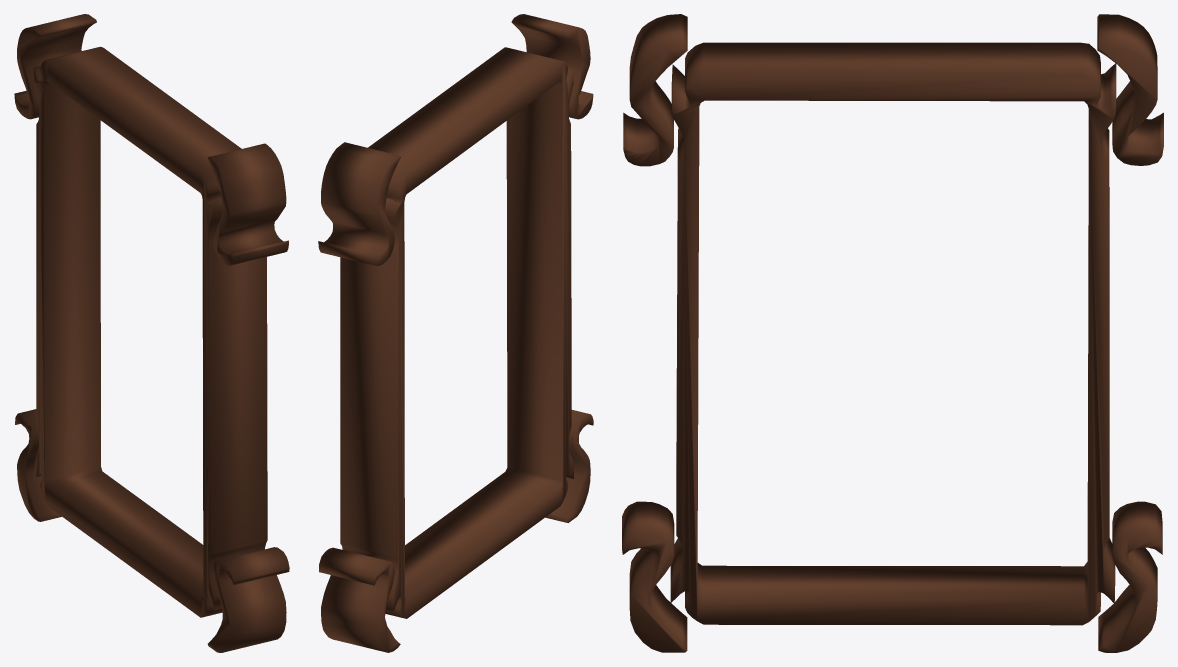
Rendered from 3rdPodium.fbx.
3 views of the same model, side by side, from view 1: azimuth 30°, elevation 25°; view 2: azimuth 150°, elevation 25°; view 3: azimuth 270°, elevation 25° (orthographic). The views are drawn at different scales.
Parts seen in each view (by area): view 1: Plane.003; view 2: Plane.003; view 3: Plane.003.
Boxes of the visible parts, x1,y1,x2,y2 form: Plane.003: (14, 14, 289, 652); Plane.003: (318, 14, 593, 652); Plane.003: (622, 14, 1163, 652).
Size of the model in its own units: 43.44 by 365 by 296.
